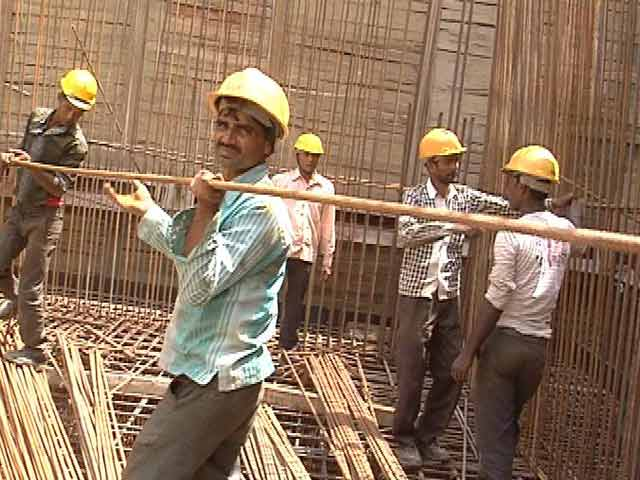NoJacket: (171, 64, 287, 377), (490, 145, 568, 341), (400, 128, 473, 300), (16, 67, 96, 197), (287, 127, 332, 260)
